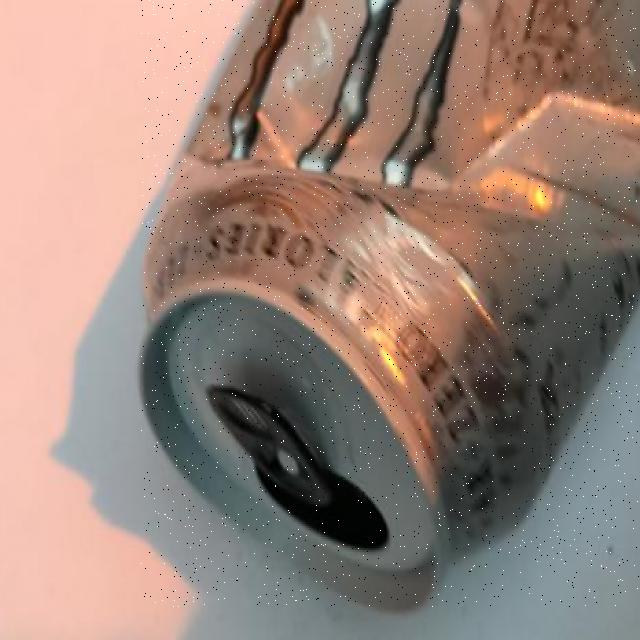metal: (142, 0, 640, 607)
